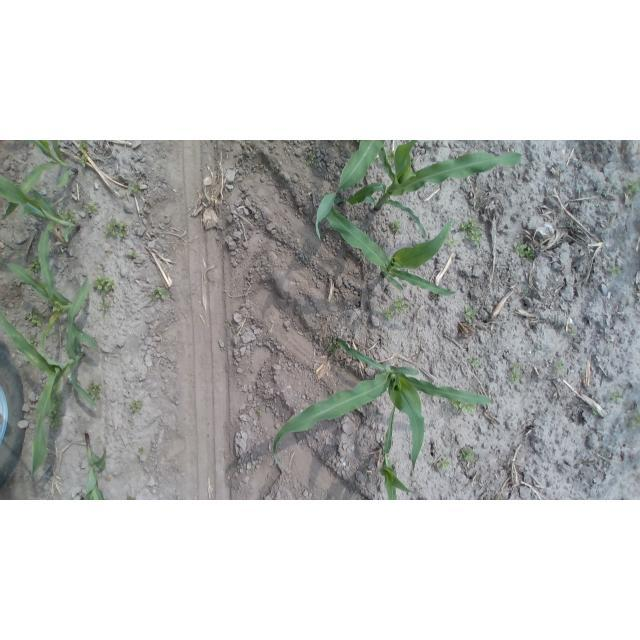Maize: (271, 336, 496, 476), (0, 272, 96, 486), (334, 140, 527, 242), (320, 201, 459, 300), (0, 172, 86, 304), (0, 249, 100, 356), (0, 140, 82, 228), (314, 141, 384, 240), (378, 398, 413, 500), (74, 432, 111, 501)
Weeds: (458, 215, 484, 246), (46, 393, 67, 431), (381, 297, 408, 319), (25, 306, 48, 330), (105, 219, 129, 241), (512, 241, 539, 259), (91, 275, 115, 293), (447, 399, 475, 414), (75, 140, 89, 169), (86, 381, 104, 402), (325, 335, 344, 354), (462, 307, 479, 326), (623, 178, 639, 198), (58, 207, 79, 222), (507, 364, 522, 385), (152, 286, 170, 303), (459, 445, 476, 463), (388, 218, 405, 235), (28, 256, 44, 274), (628, 408, 640, 432), (82, 201, 99, 216), (608, 265, 625, 280), (301, 153, 316, 168), (436, 457, 452, 471), (386, 147, 398, 165), (554, 358, 566, 376), (131, 398, 144, 414), (444, 238, 460, 251), (128, 182, 142, 196), (28, 337, 43, 350), (99, 300, 114, 313), (125, 250, 141, 262), (589, 407, 604, 418), (471, 355, 482, 369), (256, 406, 265, 422), (611, 391, 622, 403), (136, 447, 145, 460), (569, 327, 578, 340), (126, 494, 139, 500)
